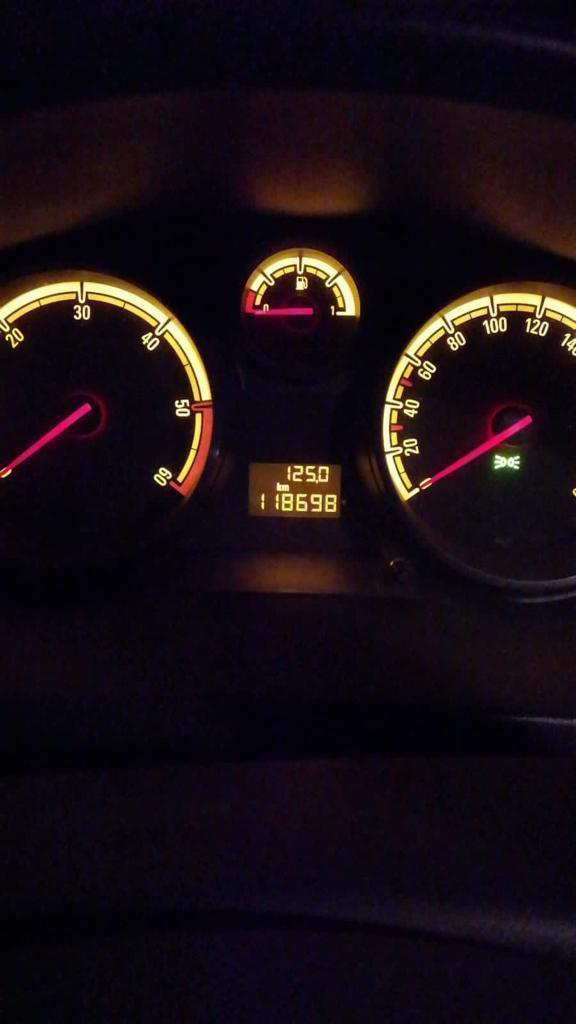,: (315, 478, 318, 484)
0: (317, 464, 329, 482)
1: (259, 491, 266, 511), (285, 464, 291, 481), (274, 492, 279, 511)
2: (292, 464, 303, 482)
5: (304, 464, 315, 482)
6: (295, 492, 307, 512)
8: (280, 492, 293, 512), (324, 493, 337, 513)
9: (309, 493, 322, 513)
X: (281, 483, 289, 491), (275, 481, 281, 491)
odometer: (244, 459, 344, 520)
